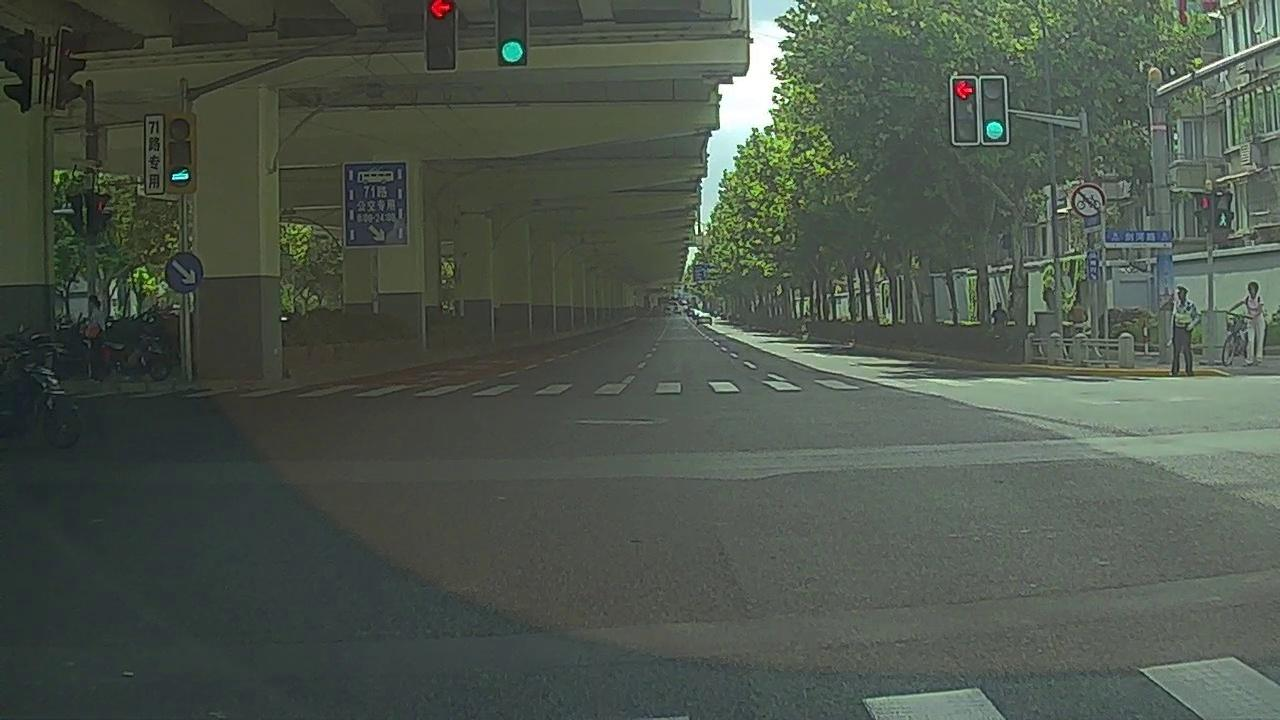traffic_light: (496, 1, 528, 67), (424, 1, 454, 69), (981, 72, 1007, 144), (952, 76, 978, 145)
